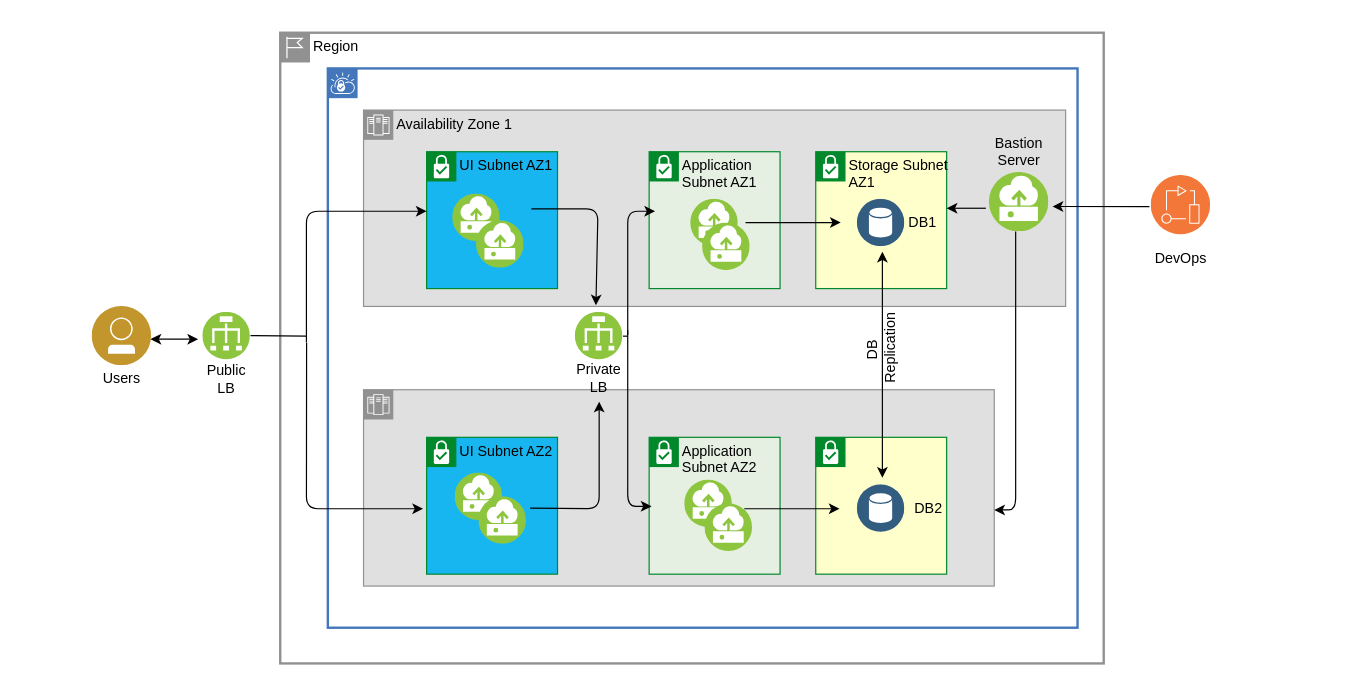
The diagram is 1349 pixels wide and 695 high, and some of its shapes have lost their labels. The box of each missing label's shape, as (x1, y1, x2, y2) in pixels:
Availability Zone 2: (362, 389, 994, 586)
Storage Subnet AZ2: (815, 436, 947, 574)
VPC: (326, 67, 1078, 628)
